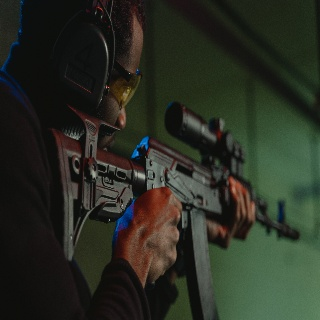rifle: (38, 100, 300, 320)
